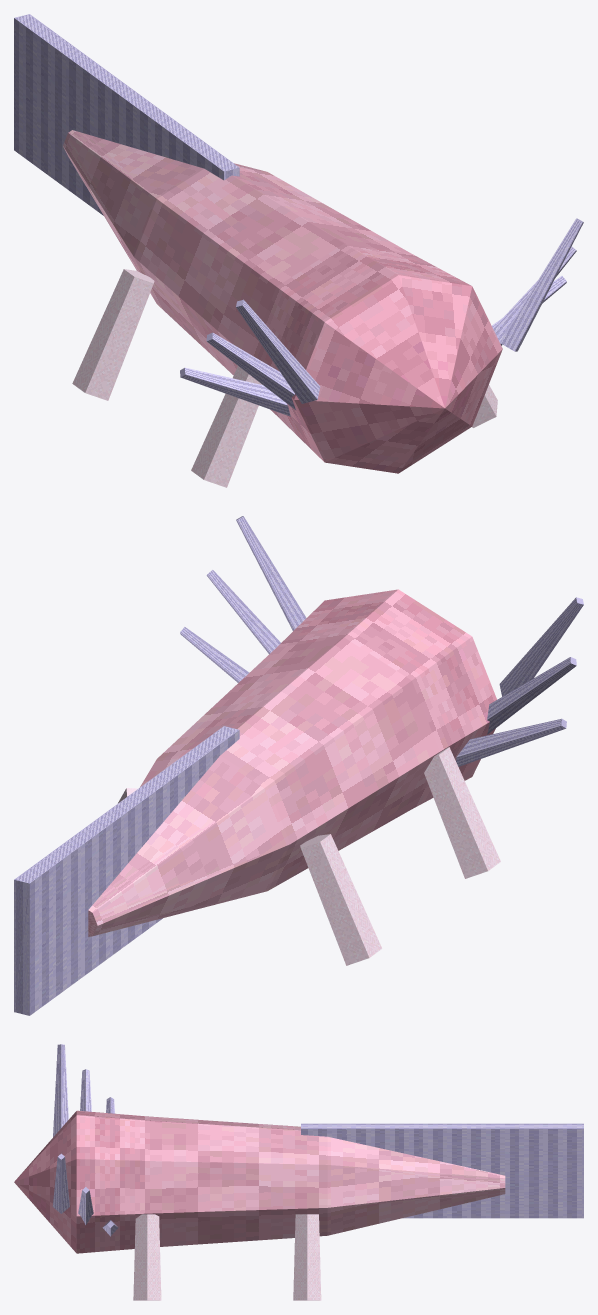
The model's file is axolote_de_caverna.glb.
3 views of the same model, one above another, from view 1: azimuth 30°, elevation 25°; view 2: azimuth 150°, elevation 25°; view 3: azimuth 270°, elevation 25° (orthographic). The views are drawn at different scales.
Visible parts, largest first — view 1: axolote_de_caverna; view 2: axolote_de_caverna; view 3: axolote_de_caverna.
Part boxes in pixels (x1,y1,x2,y2): axolote_de_caverna: (14,14,583,487); axolote_de_caverna: (14,516,583,1015); axolote_de_caverna: (14,1044,583,1300).
Size of the model in its own units: 0.4636 by 0.2782 by 0.8806.
1 material, 1 textured.
